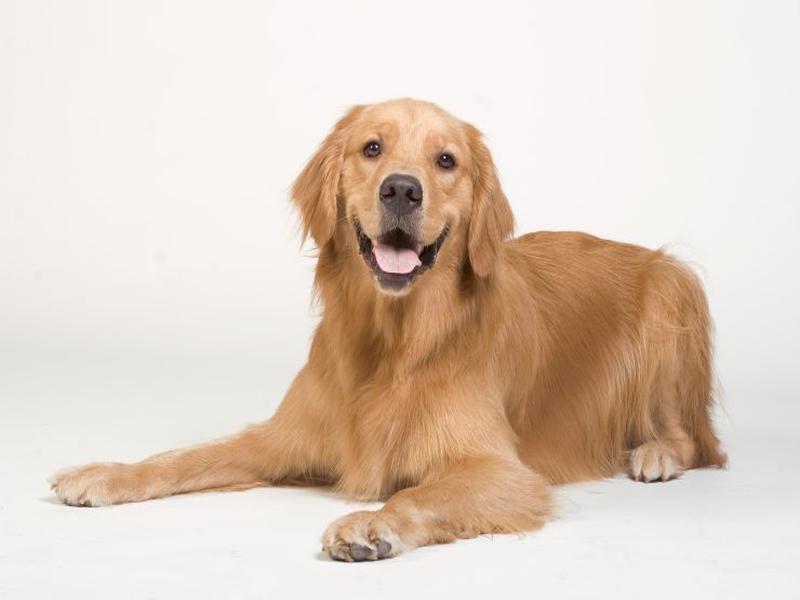dog_down: (50, 96, 735, 564)
